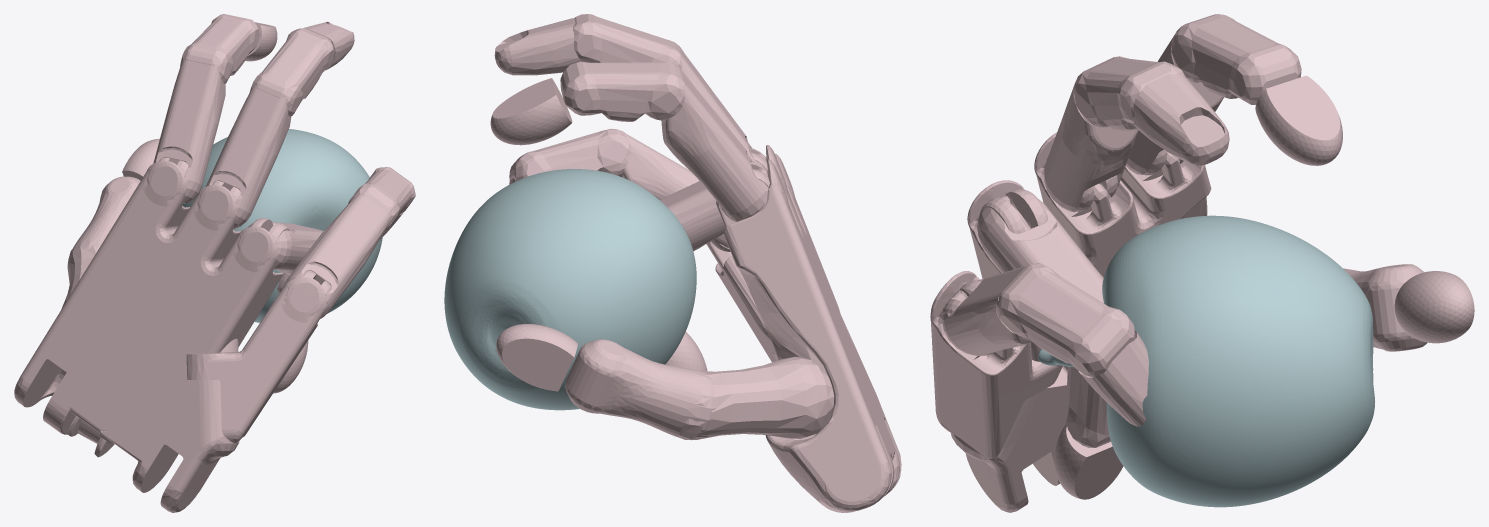
File: grasp_4.glb
The picture shows the model from 3 angles, left to right: view 1: azimuth 30°, elevation 25°; view 2: azimuth 150°, elevation 25°; view 3: azimuth 270°, elevation 25°; orthographic projection. The views are drawn at different scales.
Parts seen in each view (by area): view 1: world; view 2: world; view 3: world.
Part boxes in pixels (x1,y1,x2,y2): world: (14,14,415,512); world: (444,14,901,512); world: (930,14,1474,512).
Size of the model in its own units: 0.1547 by 0.1648 by 0.1425.
